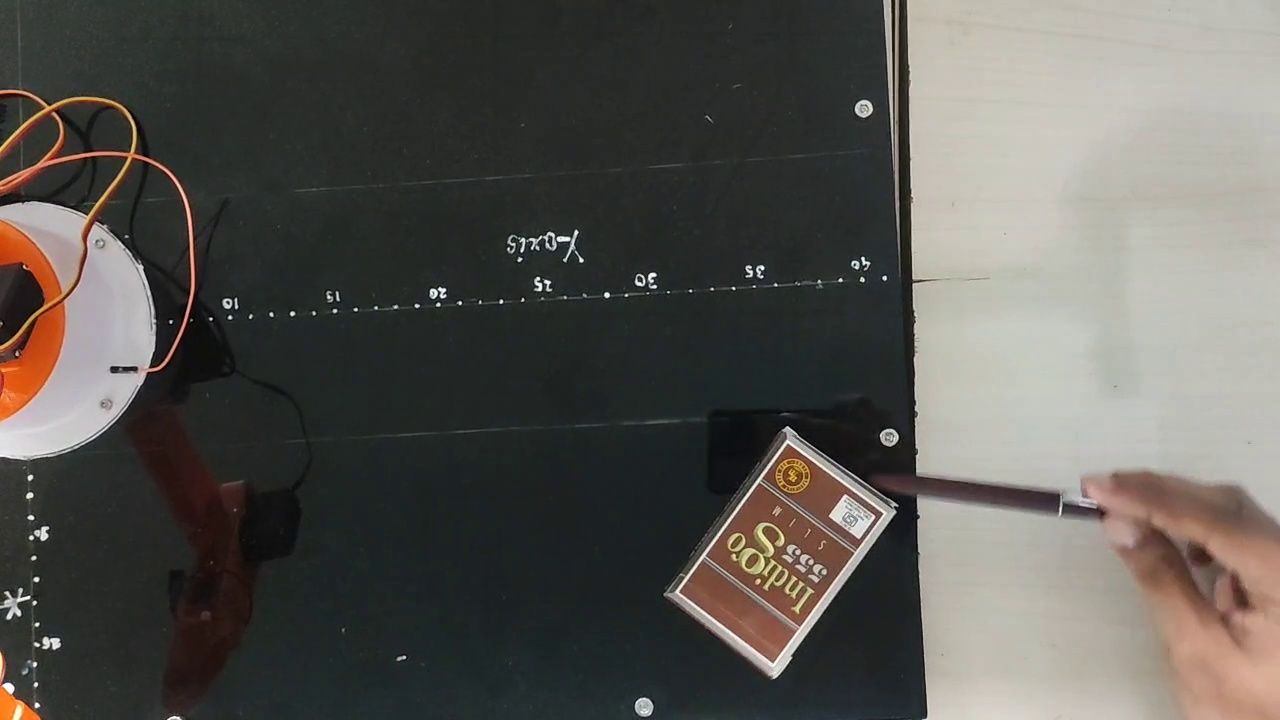BEX: (676, 438, 886, 663)
